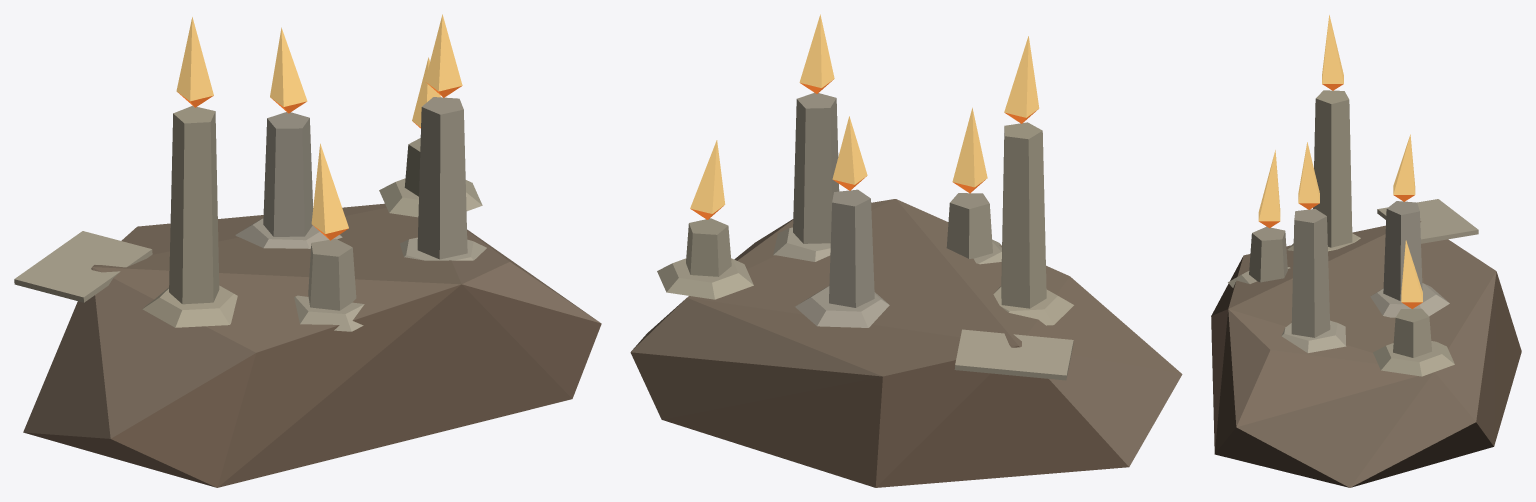
Rendered from tl_env_shrine_candles_v01.glb.
3 renders of one model, left to right at view 1: azimuth 30°, elevation 25°; view 2: azimuth 150°, elevation 25°; view 3: azimuth 270°, elevation 25°, orthographic. The views are drawn at different scales.
Visible parts, largest first — view 1: tl_env_shrine_candles_v01; view 2: tl_env_shrine_candles_v01; view 3: tl_env_shrine_candles_v01.
Boxes of the visible parts, left/top/right/bottom form: tl_env_shrine_candles_v01: left=14, top=14, right=601, bottom=487; tl_env_shrine_candles_v01: left=630, top=14, right=1182, bottom=487; tl_env_shrine_candles_v01: left=1211, top=15, right=1521, bottom=487.
Size of the model in its own units: 0.6159 by 0.4474 by 0.3921.
